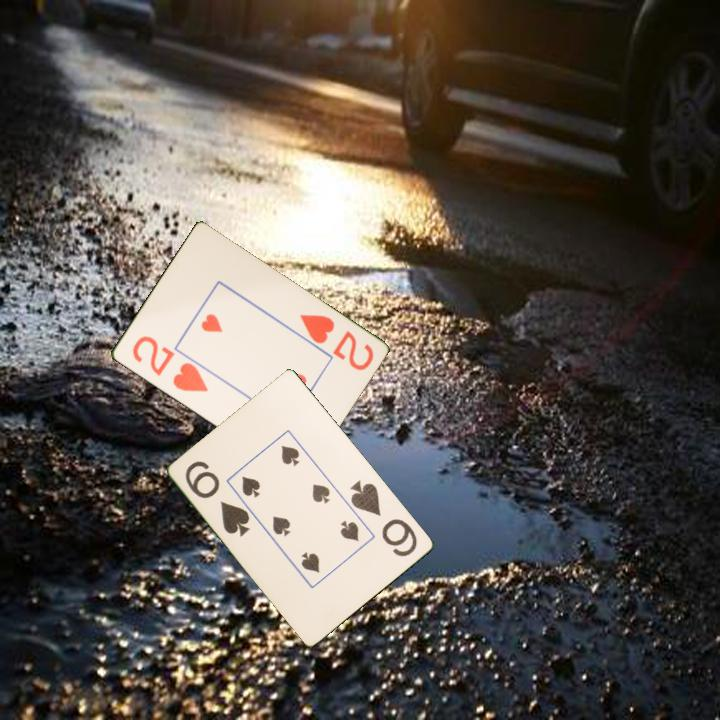2h: (128, 332, 211, 395), (296, 311, 376, 374)
6s: (347, 477, 421, 560), (182, 457, 253, 540)
